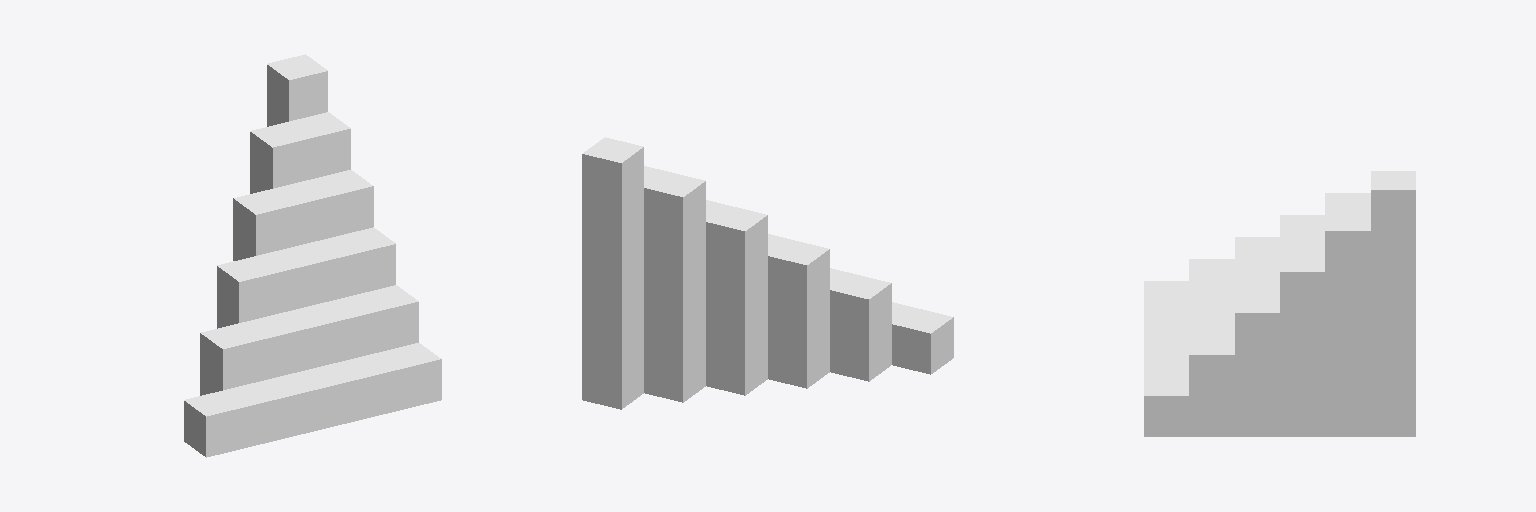
File: UninkableTriangleSlope.obj
3 renders of one model, left to right at view 1: azimuth 30°, elevation 25°; view 2: azimuth 150°, elevation 25°; view 3: azimuth 270°, elevation 25°, orthographic.
Parts seen in each view (by area): view 1: object 1; view 2: object 1; view 3: object 1.
Part boxes in pixels (left/top/right/bottom): object 1: left=184, top=54, right=441, bottom=457; object 1: left=582, top=137, right=953, bottom=409; object 1: left=1144, top=171, right=1415, bottom=436.
Bounding box in the file's own units: 0.6 × 0.6 × 0.6.